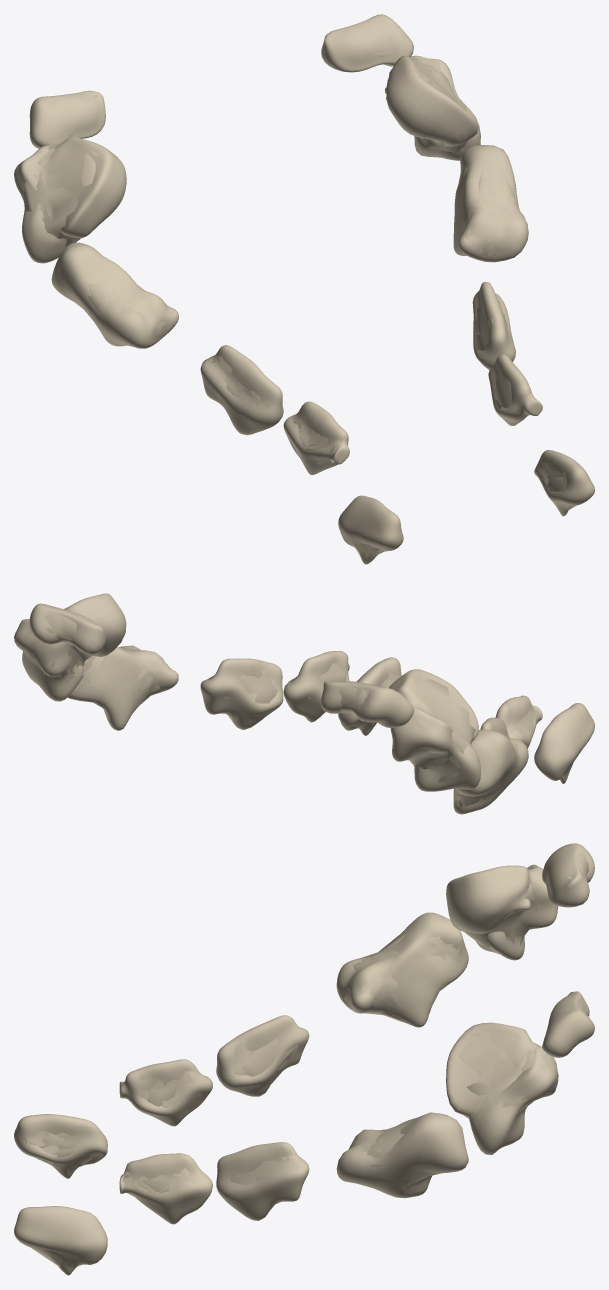
The model's file is Teeth Upper.fbx.
The picture shows the model from 3 angles, top to bottom: view 1: azimuth 30°, elevation 25°; view 2: azimuth 150°, elevation 25°; view 3: azimuth 270°, elevation 25°; orthographic projection.
Visible parts, largest first — view 1: Teeth Upper high, Teeth Upper low, Teeth Upper; view 2: Teeth Upper high, Teeth Upper low, Teeth Upper; view 3: Teeth Upper high, Teeth Upper, Teeth Upper low.
Part boxes in pixels (x1,y1,x2,y2): Teeth Upper high: (14, 14, 594, 564); Teeth Upper low: (22, 64, 575, 555); Teeth Upper: (21, 39, 573, 558); Teeth Upper high: (14, 593, 594, 814); Teeth Upper low: (24, 617, 567, 806); Teeth Upper: (22, 612, 582, 807); Teeth Upper high: (14, 843, 594, 1275); Teeth Upper: (23, 852, 588, 1270); Teeth Upper low: (30, 856, 589, 1266).
Size of the model in its own units: 14.32 by 8.99 by 15.82.
